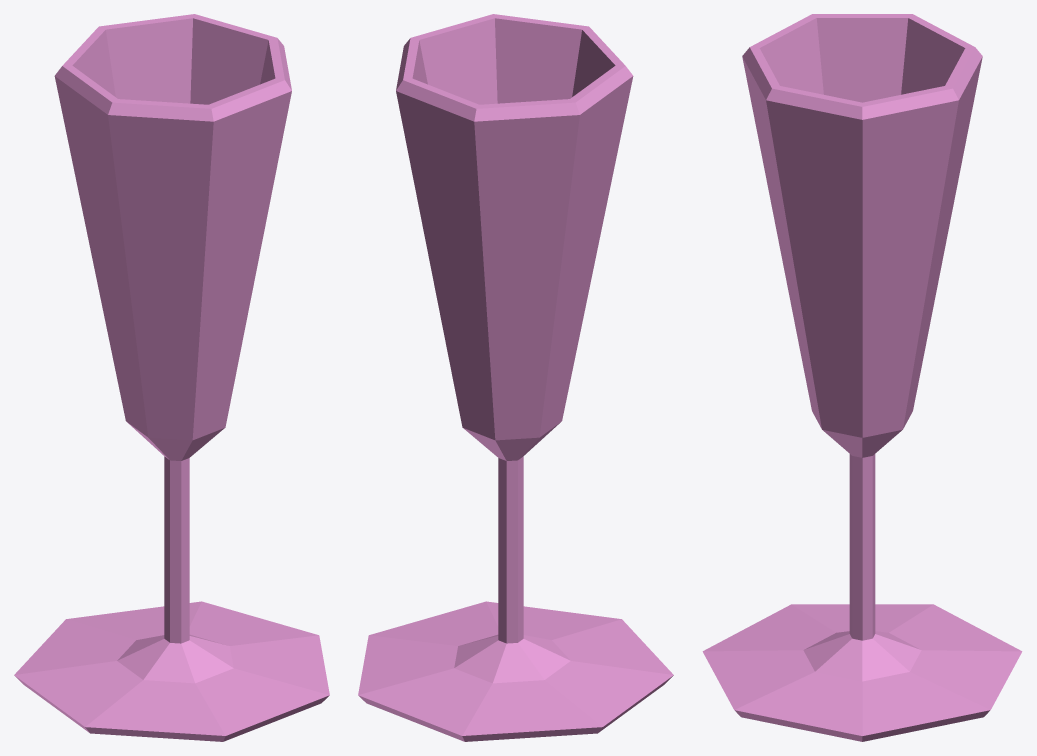
The model's file is obj_glass_5.FBX.
3 renders of one model, left to right at view 1: azimuth 30°, elevation 25°; view 2: azimuth 150°, elevation 25°; view 3: azimuth 270°, elevation 25°, orthographic.
Parts seen in each view (by area): view 1: Object005; view 2: Object005; view 3: Object005.
Boxes of the visible parts, x1,y1,x2,y2 form: Object005: (14, 14, 329, 741); Object005: (358, 14, 673, 741); Object005: (702, 14, 1022, 741).
Size of the model in its own units: 16.72 by 36.56 by 17.15.
